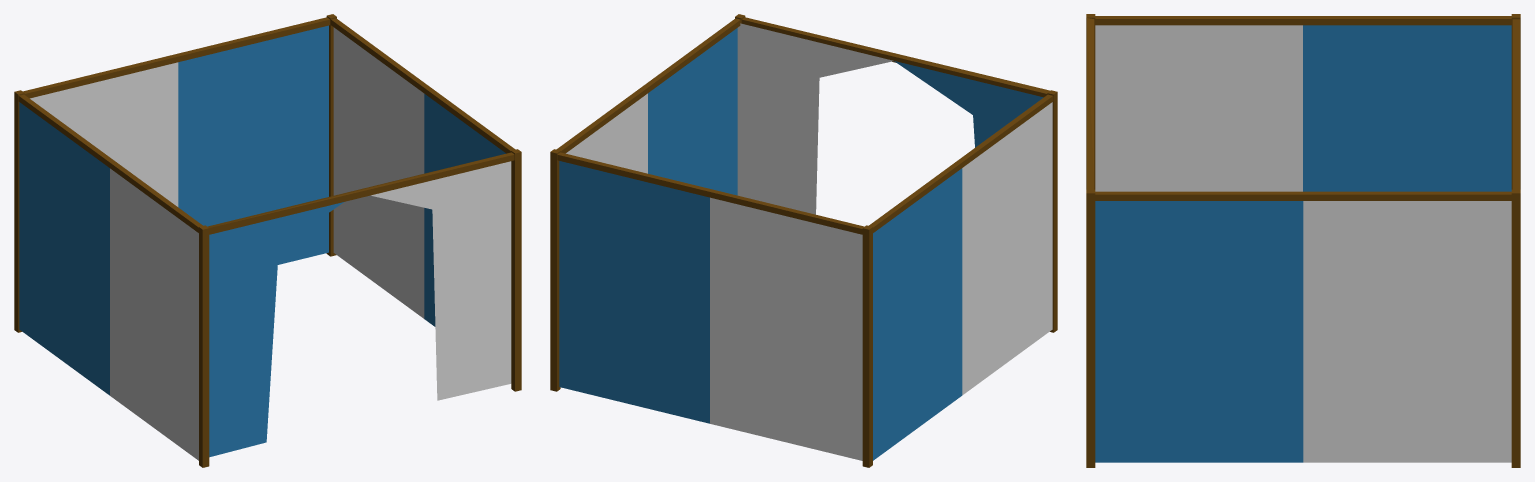
File: tent_3x3.glb
3 renders of one model, left to right at view 1: azimuth 30°, elevation 25°; view 2: azimuth 150°, elevation 25°; view 3: azimuth 270°, elevation 25°, orthographic. The views are drawn at different scales.
Parts seen in each view (by area): view 1: tent_3x3; view 2: tent_3x3; view 3: tent_3x3.
Boxes of the visible parts, left/top/right/bottom form: tent_3x3: left=14, top=14, right=521, bottom=467; tent_3x3: left=550, top=14, right=1057, bottom=467; tent_3x3: left=1086, top=14, right=1520, bottom=467.
Size of what is drawn, in the model's own units: 2.95 by 2.11 by 3.02.
